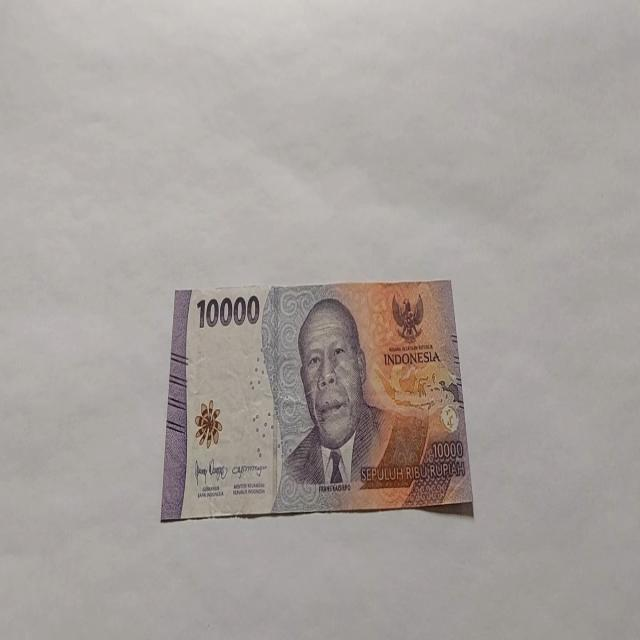sepuluh ribu rupiah: (160, 278, 473, 522)
